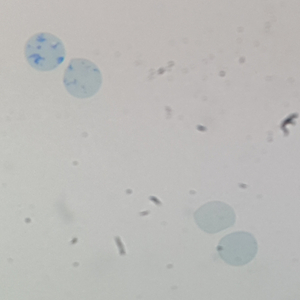aggregate reticulocyte: (22, 31, 68, 73), (62, 56, 103, 100)
erythrocyte: (191, 199, 239, 235), (216, 229, 260, 268)
